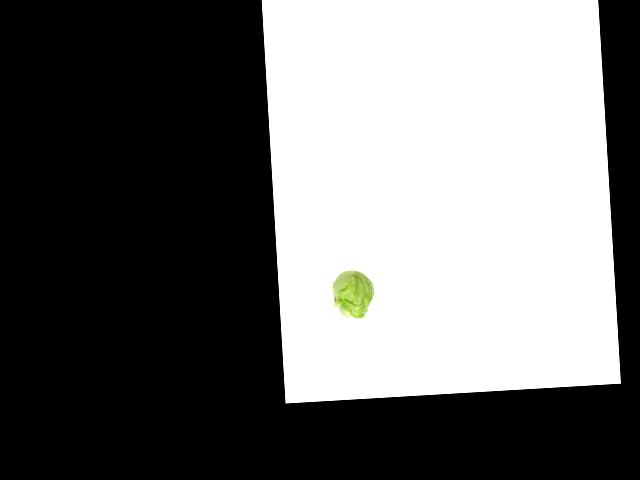lettuce: (332, 264, 379, 325)
